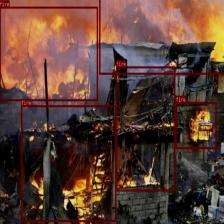fire: (21, 105, 116, 221), (98, 0, 224, 74), (0, 6, 98, 101), (116, 66, 174, 191), (176, 102, 216, 149)
